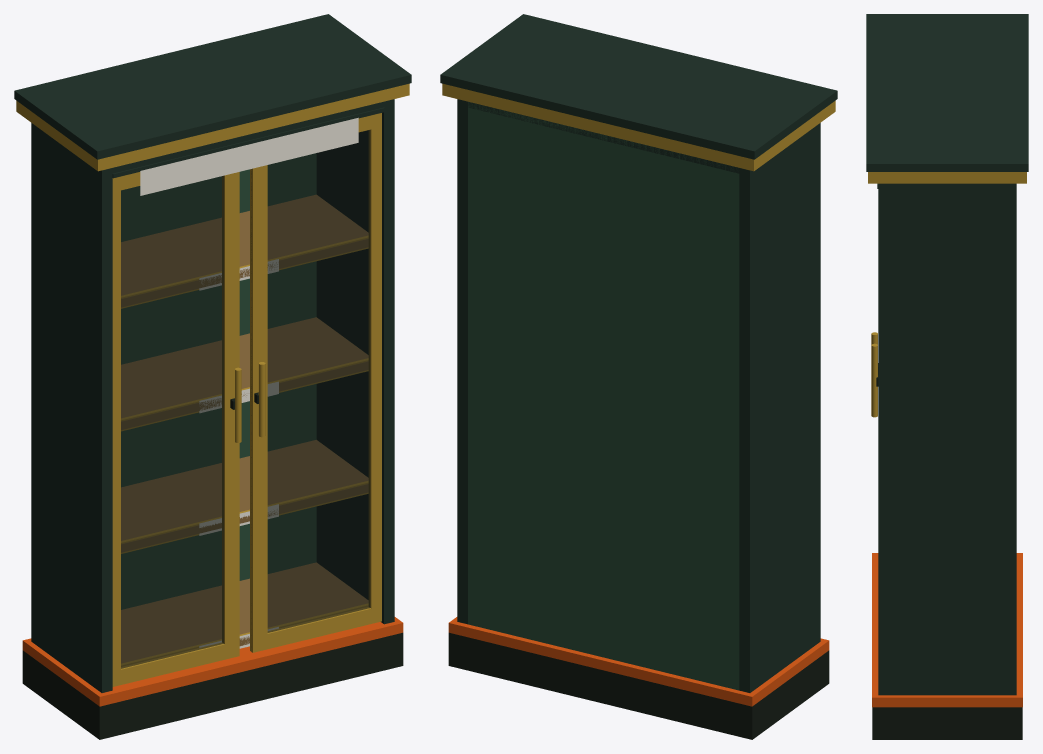
The model's file is wine-cabinet.glb.
The picture shows the model from 3 angles, left to right: view 1: azimuth 30°, elevation 25°; view 2: azimuth 150°, elevation 25°; view 3: azimuth 270°, elevation 25°; orthographic projection. The views are drawn at different scales.
Parts seen in each view (by area): view 1: door_right_glass, door_left_glass, side_left, back_panel, cornice_cap, side_right, plinth, shelf_deck_4, shelf_deck_2, shelf_deck_3, shelf_deck_1, door_right_stile_out (+14 smaller); view 2: back_panel, side_left, cornice_cap, plinth, side_right, accent_band, cornice, carcass_top; view 3: side_right, cornice_cap, plinth, accent_band, cornice, door_right_handle.
Boxes of the visible parts, <box> form: door_right_glass: <box>251,130,370,632</box>; door_left_glass: <box>121,176,223,668</box>; side_left: <box>31,123,112,692</box>; back_panel: <box>121,153,316,609</box>; cornice_cap: <box>14,14,411,159</box>; side_right: <box>316,99,394,624</box>; plinth: <box>22,632,403,739</box>; shelf_deck_4: <box>121,194,368,307</box>; shelf_deck_2: <box>121,440,368,552</box>; shelf_deck_3: <box>121,317,368,429</box>; shelf_deck_1: <box>121,562,368,666</box>; door_right_stile_out: <box>250,165,267,652</box>; back_panel: <box>468,101,739,690</box>; side_left: <box>739,123,820,692</box>; cornice_cap: <box>440,14,837,159</box>; plinth: <box>448,632,829,739</box>; side_right: <box>457,99,467,624</box>; accent_band: <box>448,617,829,706</box>; cornice: <box>442,83,835,171</box>; carcass_top: <box>457,99,816,175</box>; side_right: <box>878,183,1016,695</box>; cornice_cap: <box>866,14,1028,171</box>; plinth: <box>872,707,1022,739</box>; accent_band: <box>872,553,1022,707</box>; cornice: <box>868,172,1026,183</box>; door_right_handle: <box>871,343,877,417</box>.
Bounding box in the file's own units: 1.18 × 2.12 × 0.54.
